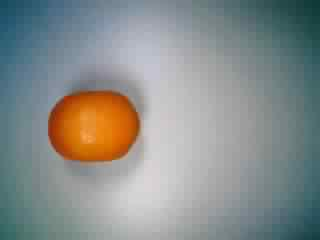orange: (45, 85, 149, 163)
